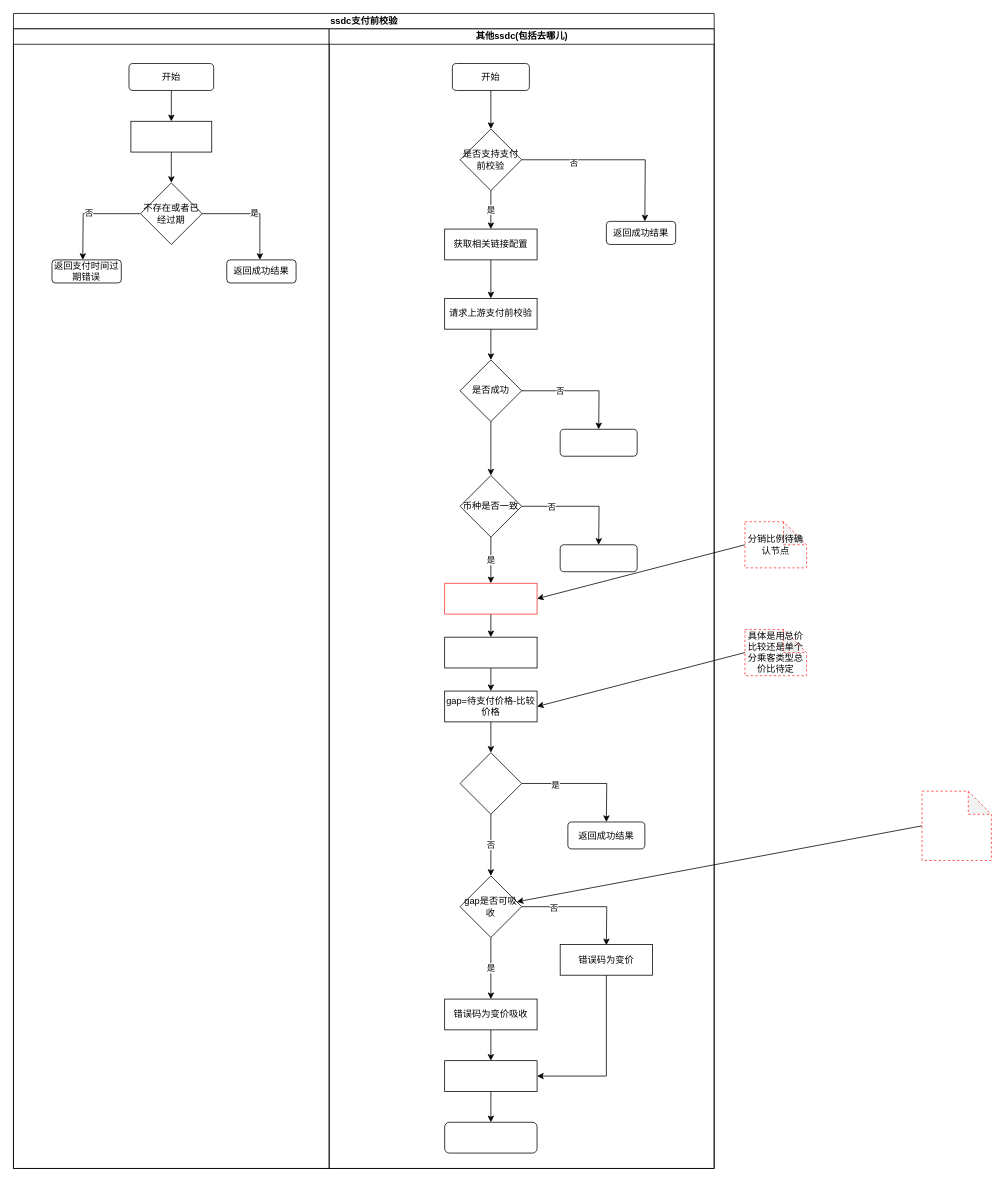
Image size: 1005x1182. Some labels were removed from this diagram. Here are the shapes that lost their labels. From the top down, the box of each, then its label:
(130, 121, 212, 152): 获取缓存存放的支付过期时间
(559, 429, 637, 456): 返回上游具体错误
(559, 544, 637, 572): 返回币种不一致错误
(13, 28, 329, 1168): belair
(444, 583, 537, 614): 获取去哪儿分销比例
(444, 636, 537, 668): 比较价格=总价*(1-分校比例)
(459, 752, 522, 814): gap=0
(921, 790, 991, 860): 具体吸收阈值获取方式待确认
(444, 1060, 537, 1091): 返回变价明细
(444, 1122, 537, 1153): 返回对应结果
